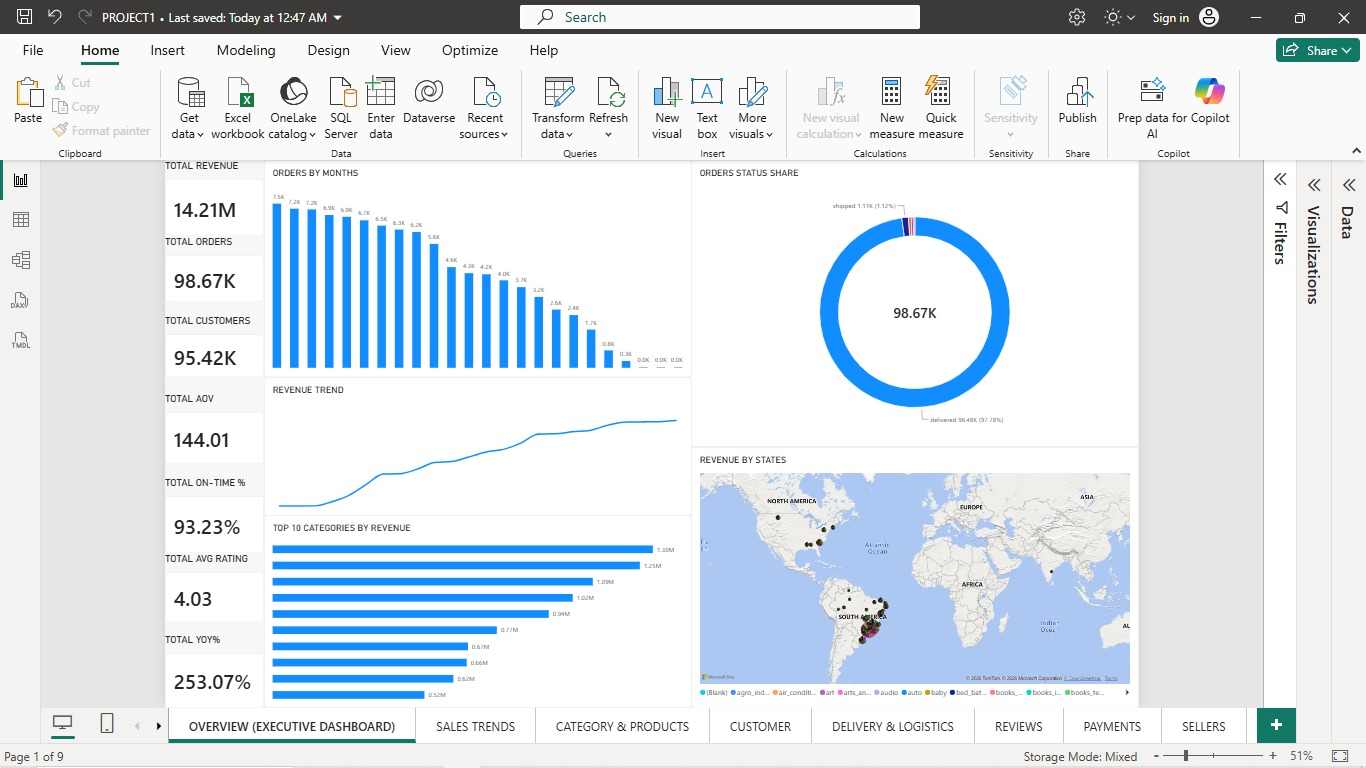

Layout of this report page (visuals, bound fields, positions):
{"tool":"powerbi","page":{"name":"OVERVIEW (EXECUTIVE DASHBOARD) ","canvas":[1920,1080],"ordinal":0},"visuals":[{"type":"cardVisual","title":"TOTAL REVENUE","fields":{"Data":["public bi_fact_sales.Revenue"]},"box":[0,0,195,150],"z":0},{"type":"cardVisual","title":"TOTAL ORDERS","fields":{"Data":["public bi_fact_sales.Orders"]},"box":[0,150,195,130],"z":1},{"type":"cardVisual","title":"TOTAL ON-TIME %","fields":{"Data":["DimDate.On-time %"]},"box":[0,625,195,150],"z":2},{"type":"cardVisual","title":"TOTAL AVG RATING","fields":{"Data":["DimDate.Avg Rating"]},"box":[0,775,195,135],"z":3},{"type":"cardVisual","title":"TOTAL YOY%","fields":{"Data":["public bi_fact_sales.YoY %"]},"box":[0,935,195,145],"z":4},{"type":"cardVisual","title":"TOTAL CUSTOMERS","fields":{"Data":["public bi_fact_sales.Customers"]},"box":[0,305,195,122.5],"z":5},{"type":"cardVisual","title":"TOTAL AOV","fields":{"Data":["DimDate.AOV"]},"box":[0,460,195,140],"z":6},{"type":"lineChart","title":"REVENUE TREND","fields":{"Category":["DimDate.Year-Month"],"Y":["public bi_fact_sales.Revenue"]},"box":[195,427.5,842.5,272.5],"z":7},{"type":"clusteredColumnChart","title":"ORDERS BY MONTHS","fields":{"Category":["DimDate.Year-Month"],"Y":["public bi_fact_sales.Orders"]},"box":[195,0,842.5,427.5],"z":8},{"type":"barChart","title":"TOP 10 CATEGORIES BY REVENUE","fields":{"Category":["public bi_fact_sales.category"],"Y":["public bi_fact_sales.Revenue"]},"box":[195,700,842.5,380],"z":9},{"type":"map","title":"REVENUE BY STATES","fields":{"Category":["public bi_fact_sales.customer_state"],"Series":["public bi_fact_sales.category"],"Size":["public bi_fact_sales.Revenue"]},"box":[1037.5,565,882.5,515],"z":10},{"type":"donutChart","title":"ORDERS STATUS SHARE","fields":{"Category":["public bi_fact_sales.order_status"],"Y":["public bi_fact_sales.Orders"]},"box":[1037.5,0,882.5,565],"z":11}]}

Visuals, with their boxes on the page's 1920x1080 design canvas (x1, y1, x2, y2). These are canvas units, not pixel positions in the 1366x768 screenshot, which may show the page scaled, cropped or inside an application window:
"TOTAL REVENUE" cardVisual: BBox(0, 0, 195, 150)
"TOTAL ORDERS" cardVisual: BBox(0, 150, 195, 280)
"TOTAL ON-TIME %" cardVisual: BBox(0, 625, 195, 775)
"TOTAL AVG RATING" cardVisual: BBox(0, 775, 195, 910)
"TOTAL YOY%" cardVisual: BBox(0, 935, 195, 1080)
"TOTAL CUSTOMERS" cardVisual: BBox(0, 305, 195, 428)
"TOTAL AOV" cardVisual: BBox(0, 460, 195, 600)
"REVENUE TREND" lineChart: BBox(195, 428, 1038, 700)
"ORDERS BY MONTHS" clusteredColumnChart: BBox(195, 0, 1038, 428)
"TOP 10 CATEGORIES BY REVENUE" barChart: BBox(195, 700, 1038, 1080)
"REVENUE BY STATES" map: BBox(1038, 565, 1920, 1080)
"ORDERS STATUS SHARE" donutChart: BBox(1038, 0, 1920, 565)
